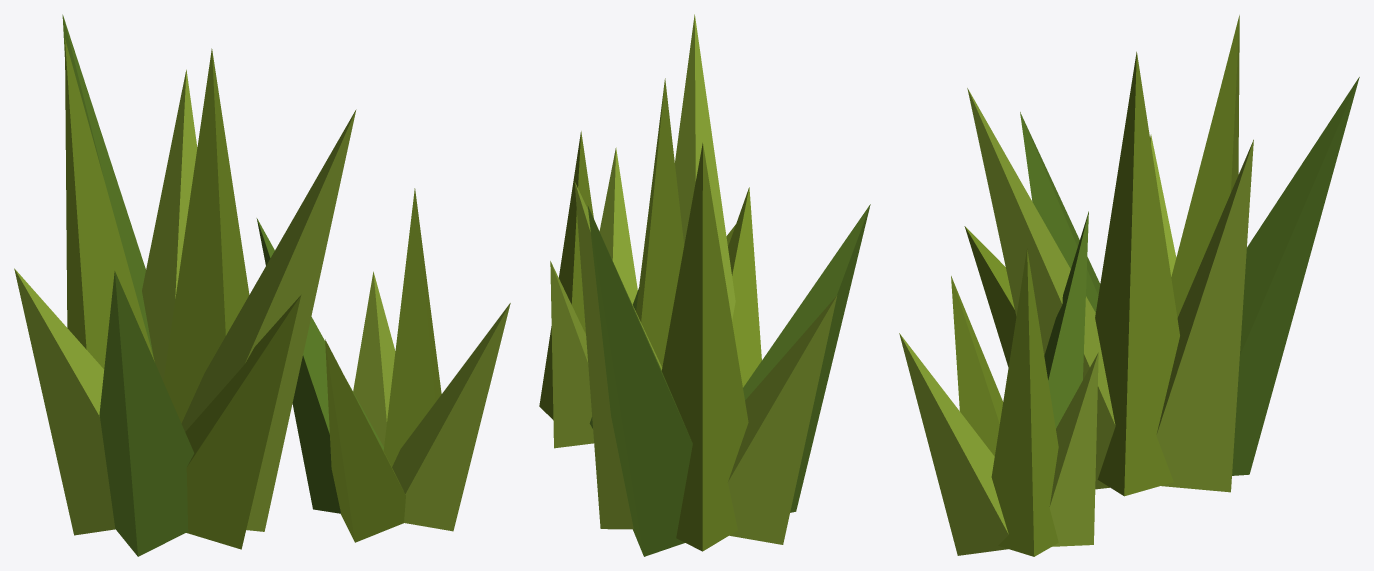
The model's file is p_grass_1.glb.
The picture shows the model from 3 angles, left to right: view 1: azimuth 30°, elevation 25°; view 2: azimuth 150°, elevation 25°; view 3: azimuth 270°, elevation 25°; orthographic projection. The views are drawn at different scales.
Parts seen in each view (by area): view 1: body; view 2: body; view 3: body.
Part boxes in pixels (box(x1,y1,x2,y2)): body: box(14, 14, 510, 556); body: box(539, 14, 870, 556); body: box(899, 15, 1359, 556).
Size of the model in its own units: 0.4791 by 0.5615 by 0.5259.
